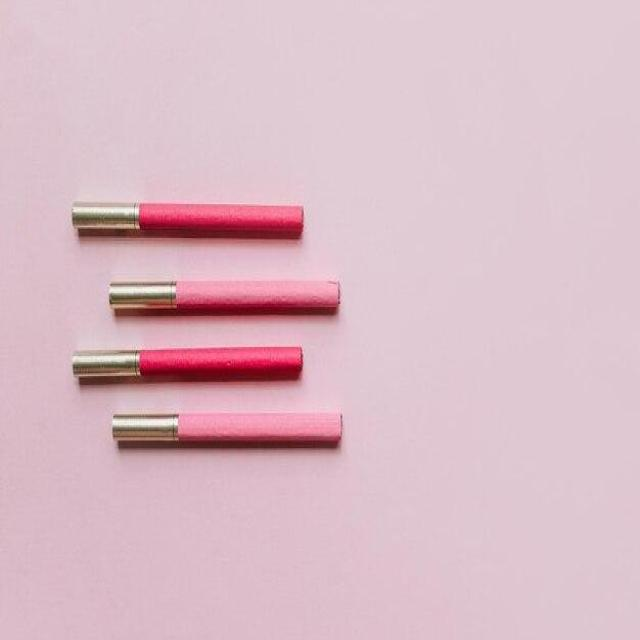cigarette: (110, 279, 340, 316), (72, 347, 303, 382), (73, 206, 304, 237), (113, 413, 342, 444)
